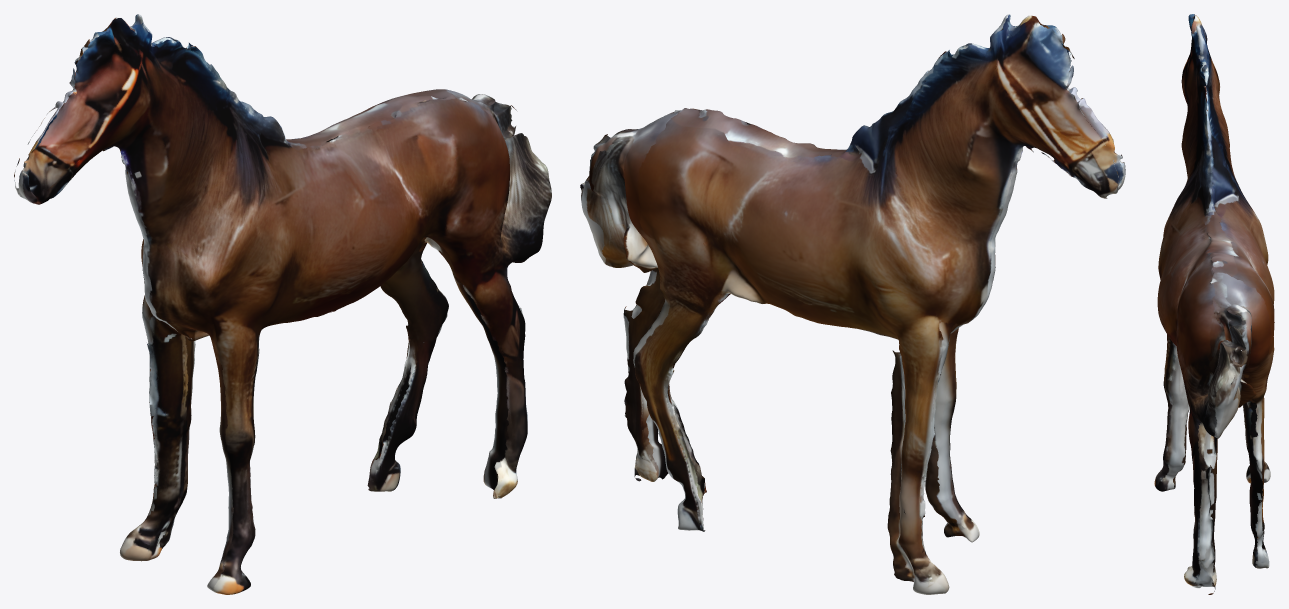
Rendered from joven.glb.
3 renders of one model, left to right at view 1: azimuth 30°, elevation 25°; view 2: azimuth 150°, elevation 25°; view 3: azimuth 270°, elevation 25°, orthographic. The views are drawn at different scales.
Visible parts, largest first — view 1: mesh; view 2: mesh; view 3: mesh.
Part boxes in pixels (left/top/right/bottom): mesh: left=14, top=14, right=551, bottom=594; mesh: left=580, top=14, right=1125, bottom=594; mesh: left=1154, top=14, right=1274, bottom=594.
Bounding box in the file's own units: 1.56 × 1.6 × 0.3942.
1 material, 1 textured.
